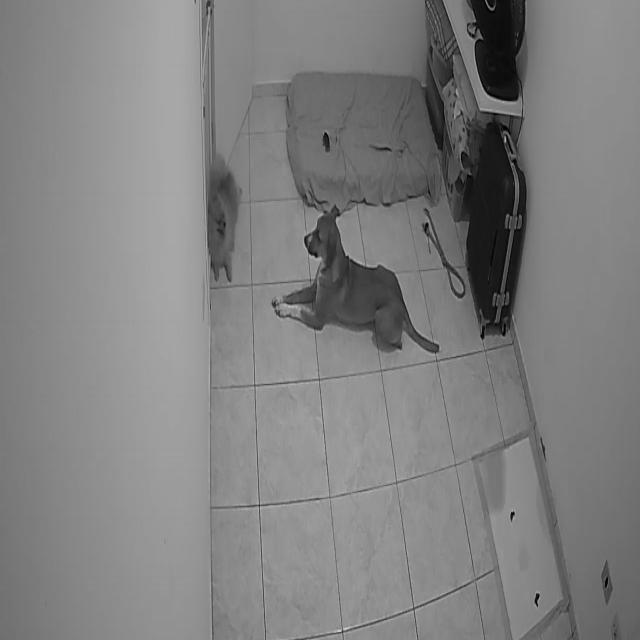laying down: (268, 202, 442, 362), (208, 150, 245, 290)
